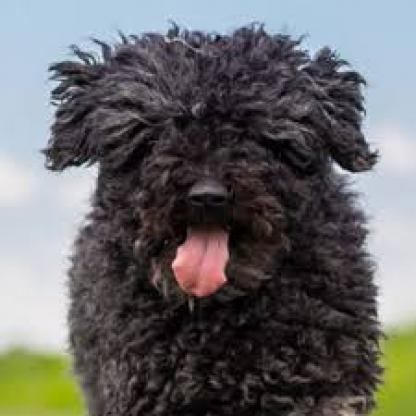puli: (19, 19, 386, 416)
